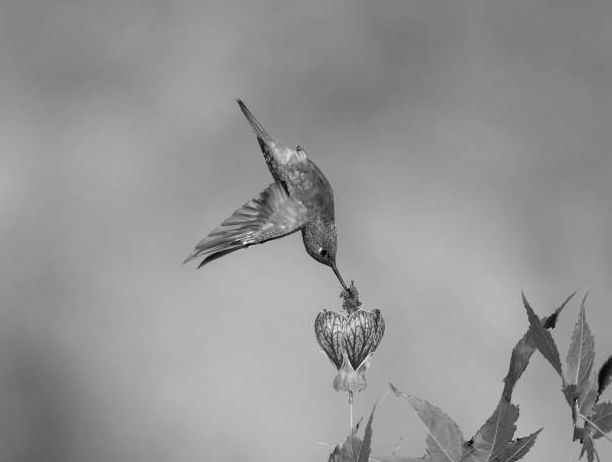Bird: (183, 96, 353, 298)
